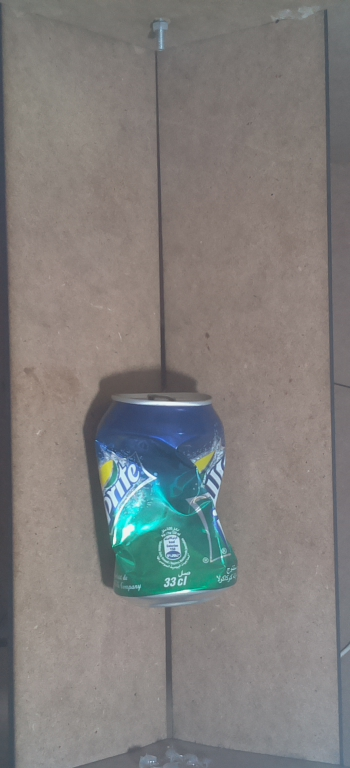Canette: (81, 379, 253, 614)
